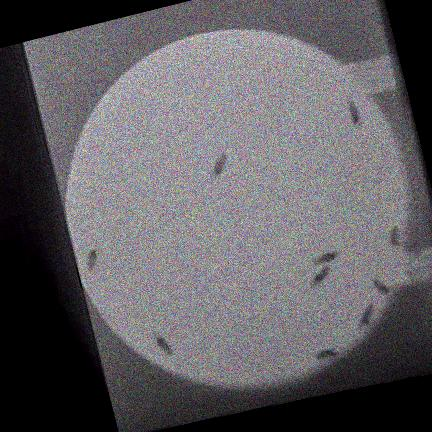fly: (309, 265, 330, 286), (153, 333, 171, 357), (357, 304, 373, 328), (346, 99, 360, 125), (312, 251, 337, 265), (211, 154, 226, 176), (315, 348, 336, 361), (371, 279, 389, 294), (85, 250, 96, 270), (389, 227, 400, 246)
